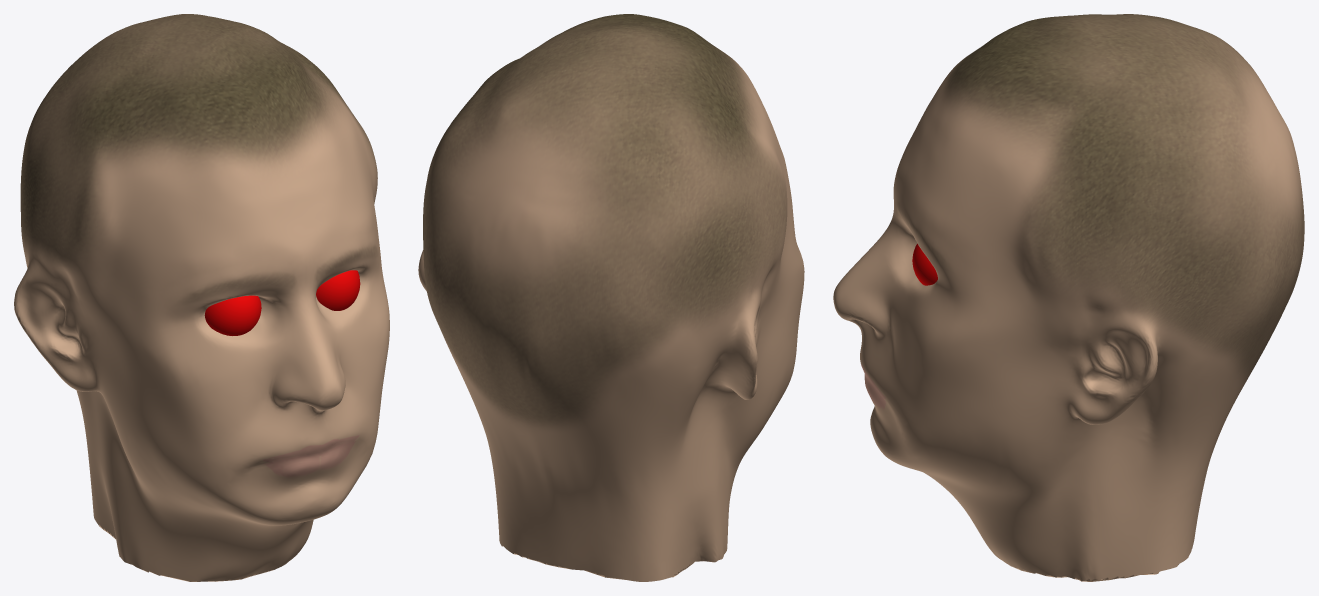
File: Vlad head.fbx
3 views of the same model, side by side, from view 1: azimuth 30°, elevation 25°; view 2: azimuth 150°, elevation 25°; view 3: azimuth 270°, elevation 25° (orthographic). The views are drawn at different scales.
Parts seen in each view (by area): view 1: putin, Sphere002, Sphere005; view 2: putin; view 3: putin, Sphere005.
Part boxes in pixels (x1=…): putin: x1=14, y1=14, x2=389, y2=581; Sphere002: x1=204, y1=295, x2=261, y2=335; Sphere005: x1=316, y1=270, x2=360, y2=310; putin: x1=418, y1=14, x2=804, y2=581; putin: x1=833, y1=14, x2=1304, y2=581; Sphere005: x1=912, y1=243, x2=937, y2=285.
Bounding box in the file's own units: 10.41 × 15.07 × 12.39.
